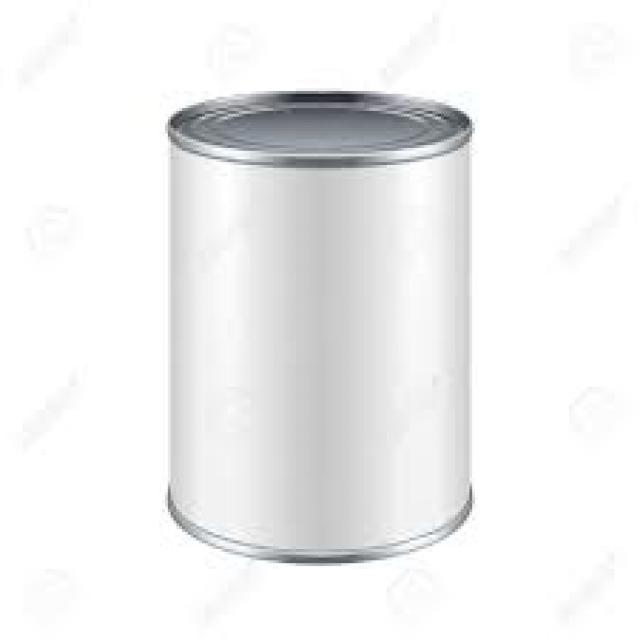recyclable: (159, 91, 473, 565)
